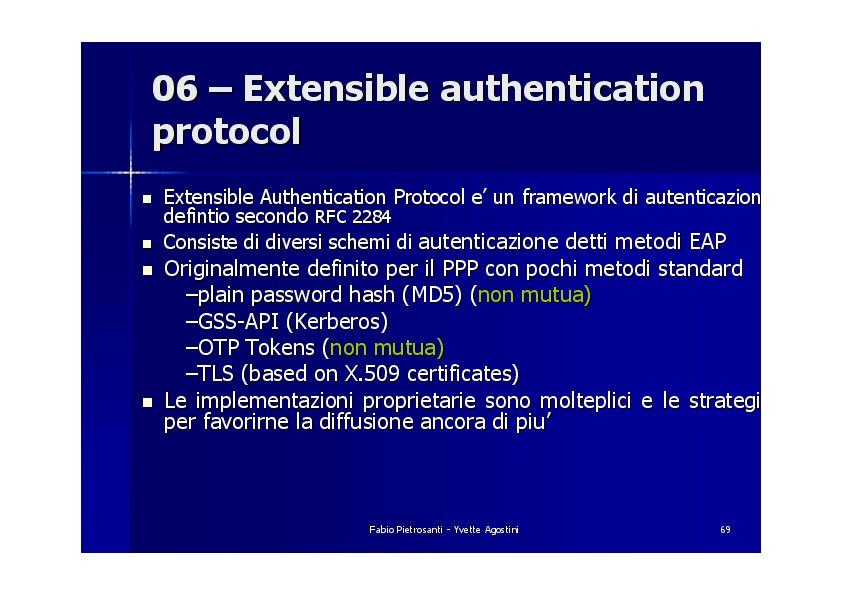paragraph: (135, 180, 761, 440)
title: (143, 58, 720, 165)
